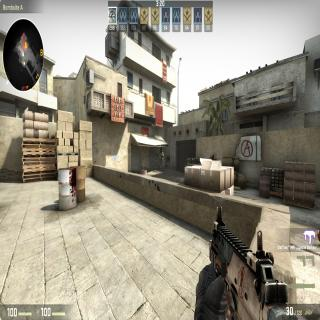CT-Body: (160, 150, 164, 166)
CT-Head: (161, 150, 163, 153)
